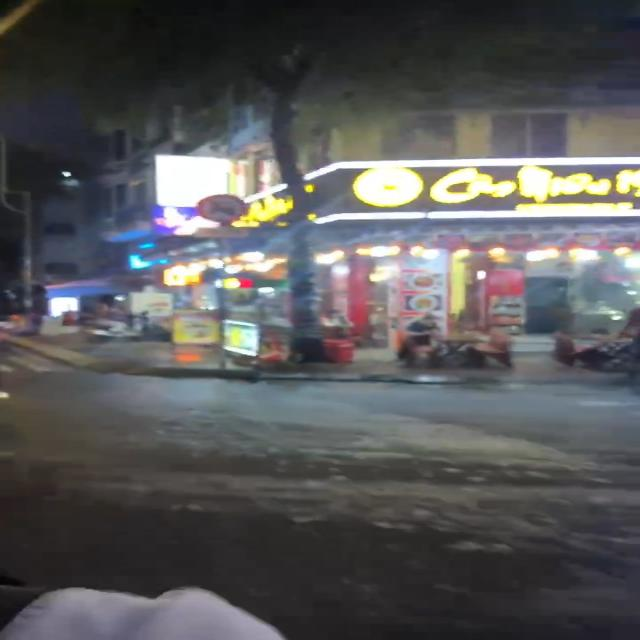Bien bao cam xe oto: (191, 189, 250, 226)
